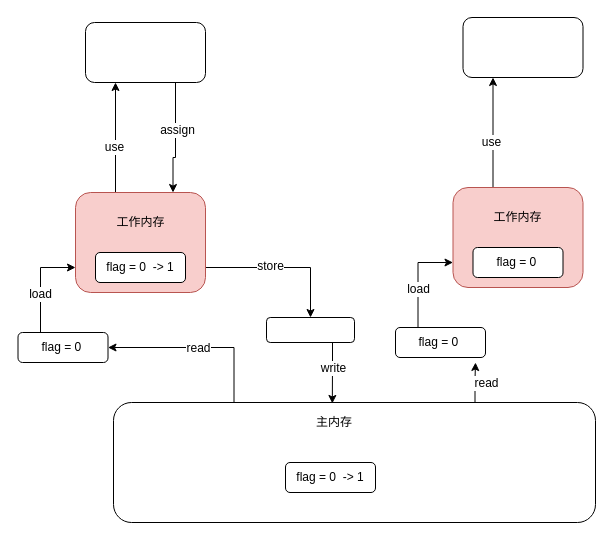
This 613x540 diagram has some shape labels left out. Here are the shapes that lost their labels. From the top down, the box of each, then its label:
(84, 22, 206, 82): 线程A
(462, 16, 583, 78): 线程B
(266, 316, 354, 342): flag = 1
